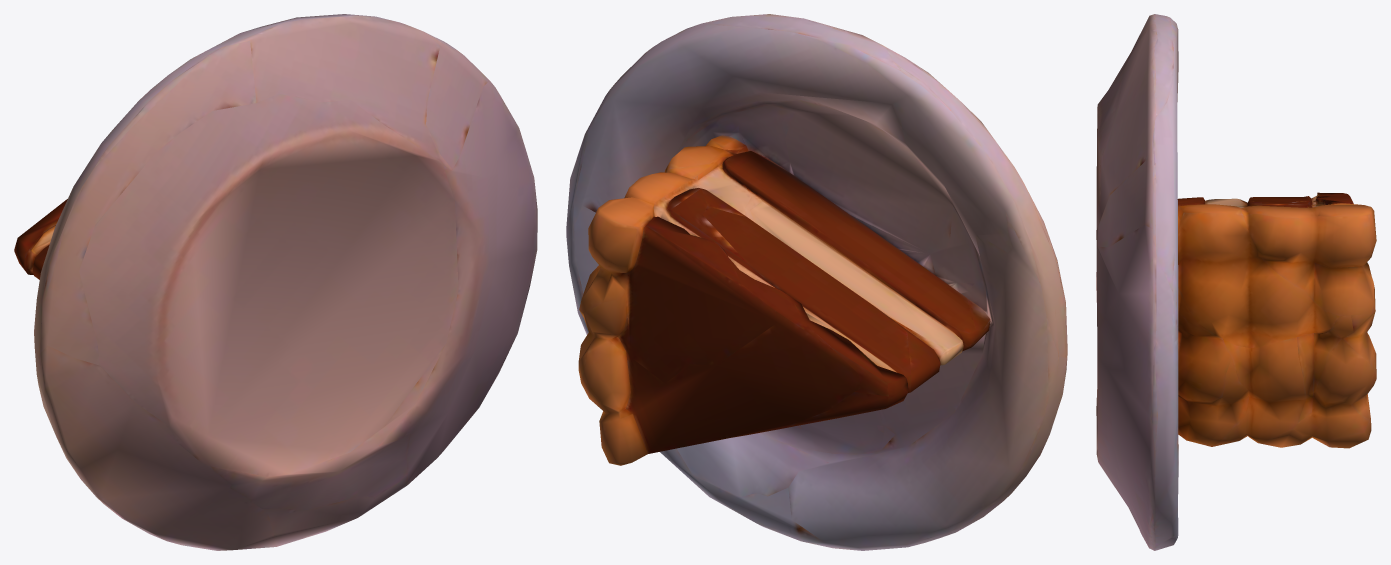
3 renders of one model, left to right at view 1: azimuth 30°, elevation 25°; view 2: azimuth 150°, elevation 25°; view 3: azimuth 270°, elevation 25°, orthographic. The views are drawn at different scales.
Parts seen in each view (by area): view 1: material; view 2: material; view 3: material.
Boxes of the visible parts, left/top/right/bottom form: material: left=14, top=14, right=537, bottom=550; material: left=566, top=14, right=1067, bottom=550; material: left=1096, top=14, right=1376, bottom=550.
Size of the model in its own units: 1 by 0.9996 by 0.5228.
1 material, 1 textured.
